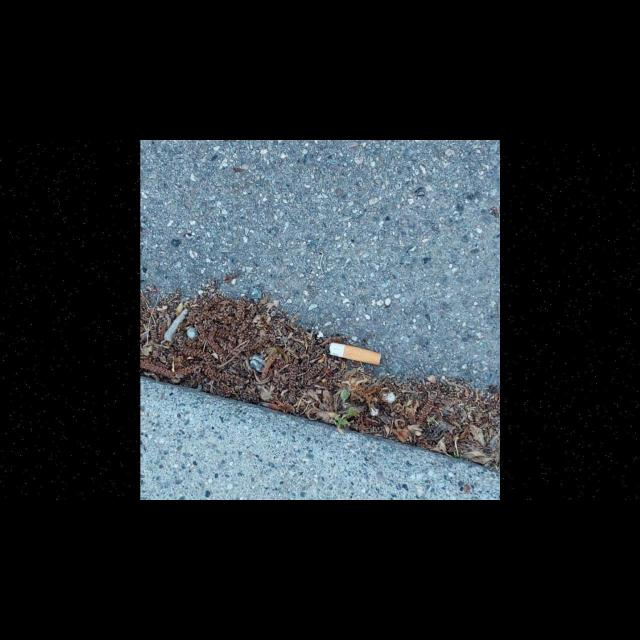cigarette: (324, 342, 381, 366)
